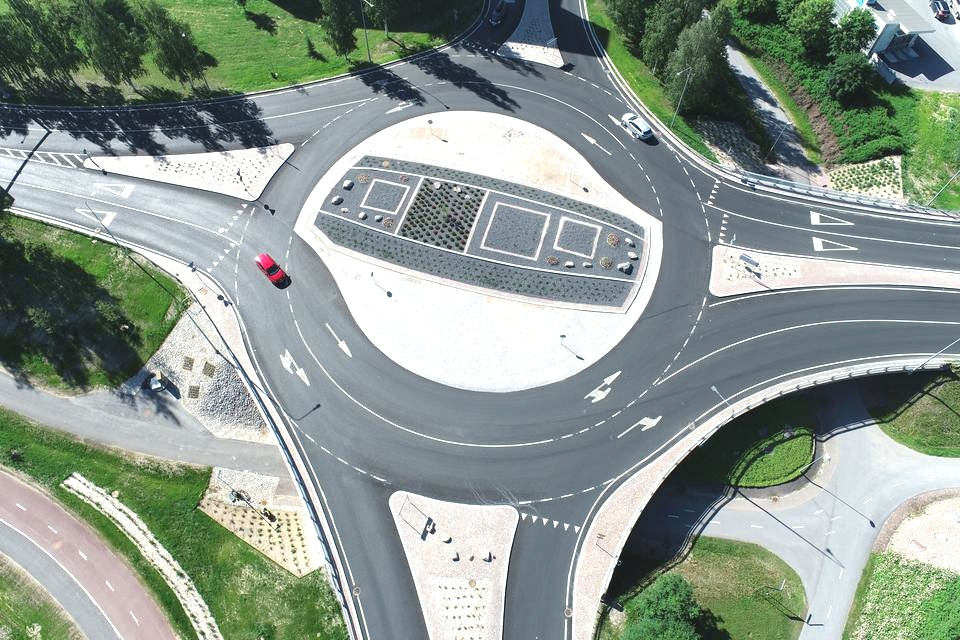roundabout: (201, 13, 783, 617)
